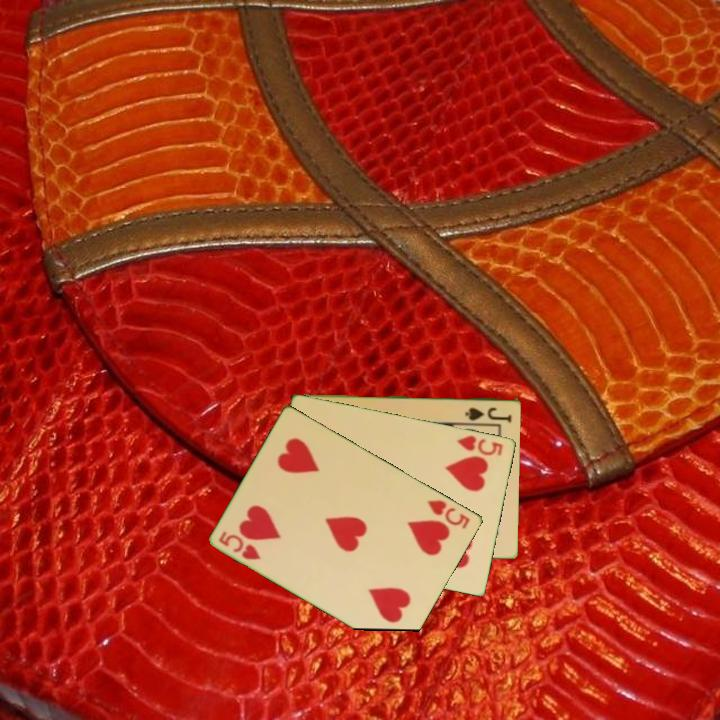5h: (424, 496, 474, 532), (215, 527, 264, 563), (454, 432, 506, 459)
Js: (462, 403, 514, 423)
